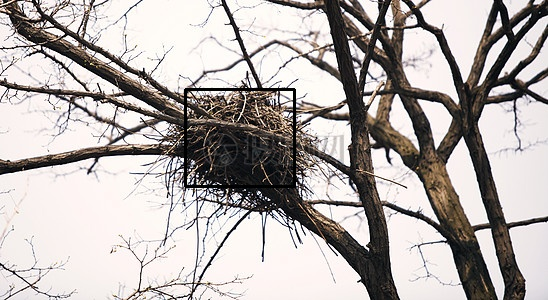bird-nest: (185, 89, 294, 186)
